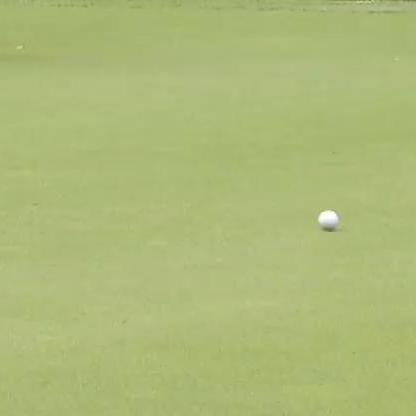golfball: (315, 206, 338, 229)
